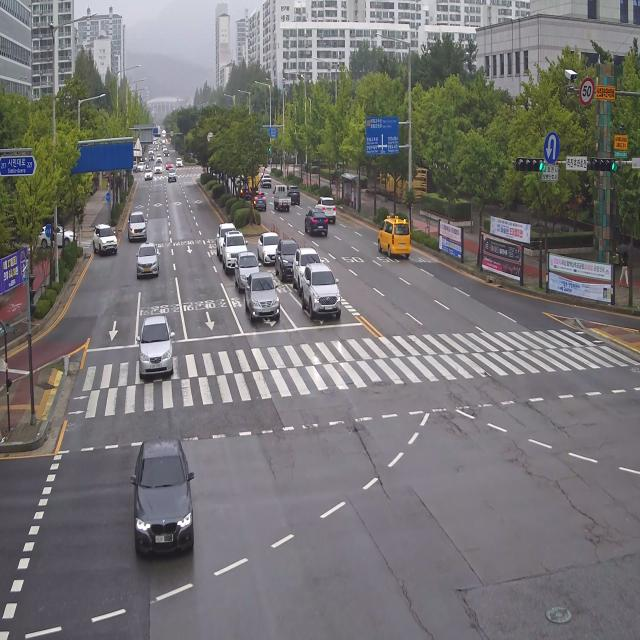Car: (119, 428, 213, 582), (298, 258, 344, 327), (136, 311, 178, 383), (244, 265, 280, 329), (373, 211, 415, 265), (35, 214, 81, 252), (131, 240, 165, 290), (292, 241, 320, 295), (92, 217, 122, 263), (220, 225, 248, 265), (232, 250, 260, 290), (301, 205, 329, 243), (275, 236, 298, 279), (255, 223, 279, 264), (126, 207, 150, 247), (212, 216, 235, 254), (314, 191, 337, 224), (253, 189, 269, 217), (234, 180, 251, 200), (286, 186, 301, 204), (173, 155, 186, 171), (260, 172, 272, 189), (167, 167, 178, 184), (143, 167, 154, 182), (154, 161, 164, 175), (129, 160, 138, 173), (164, 160, 174, 170), (137, 162, 145, 172), (139, 152, 147, 162), (156, 153, 163, 164), (148, 152, 155, 162), (144, 160, 150, 169), (164, 151, 170, 158), (148, 148, 154, 154), (154, 145, 158, 151), (162, 147, 167, 151)
Truck: (272, 181, 292, 214), (248, 168, 260, 193), (162, 138, 166, 147)
